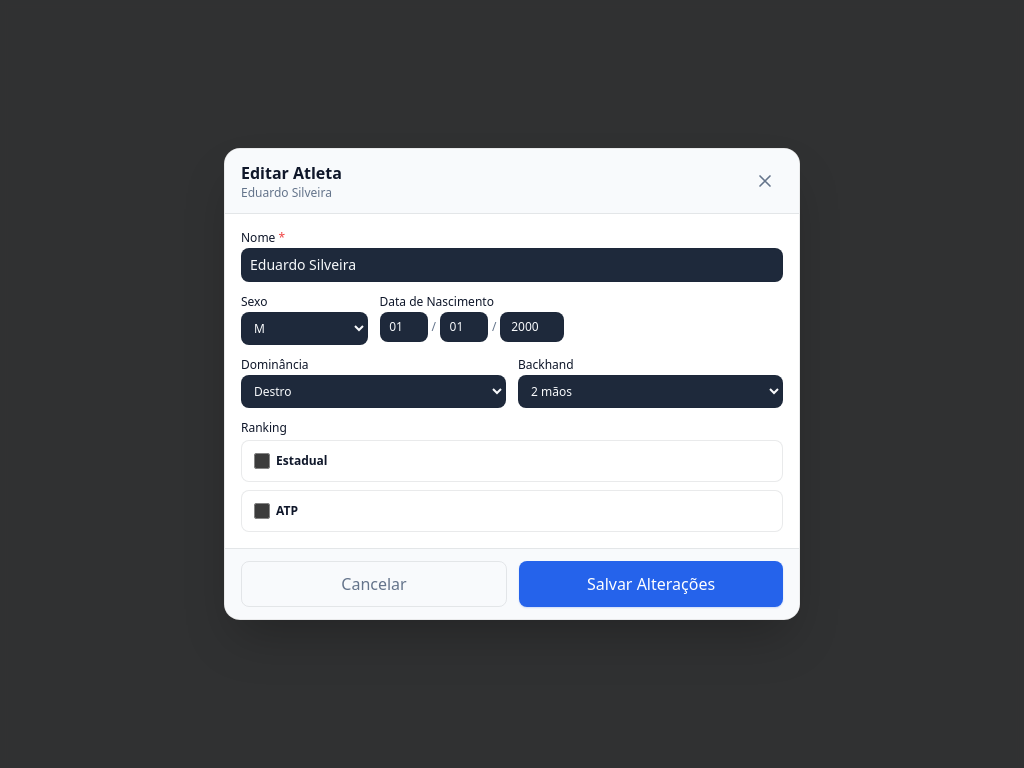
Test: EditAthleteModal Real Tests › possui container de modal configurado com max-w-xl e permite interagir com ranking
Expected: the dialog with class "max-w-xl" is shown, [224,148,800,620]
Ativa Estadual no modal de edição
Step 1. Click the checkbox labelled "Estadual" → click(262, 461), box [254,453,270,469]
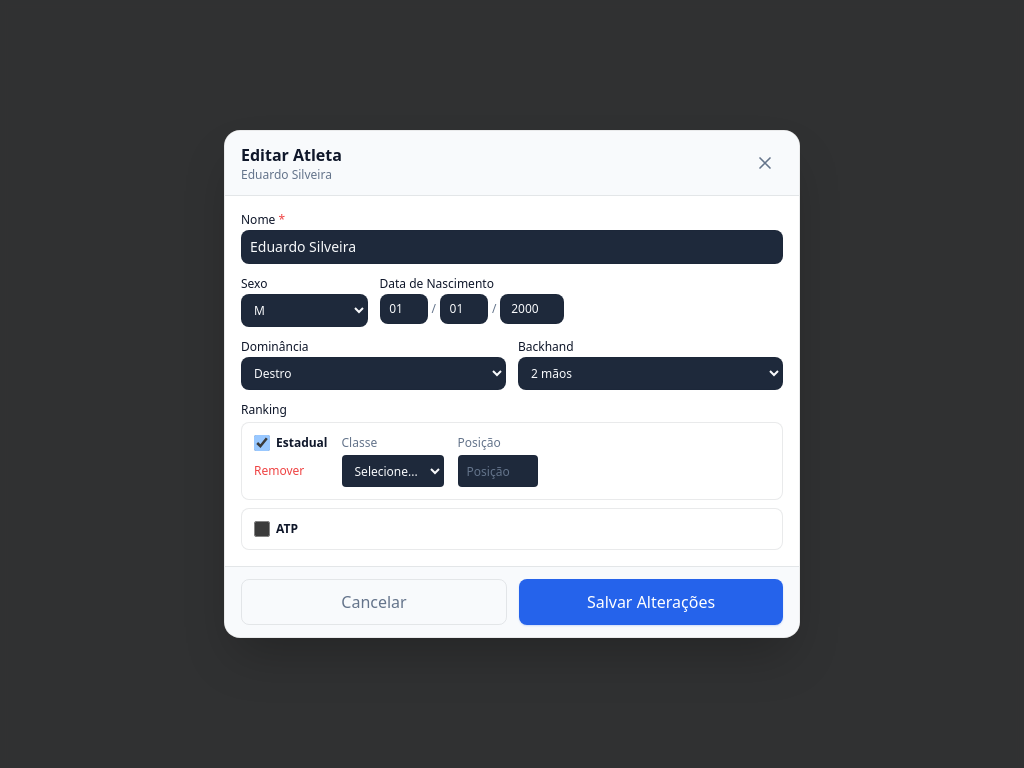
Now the dropdown labelled "Classe" is shown, box [342,455,444,487]
Now the number field labelled "Posição" is shown, box [458,455,538,487]
Now the button "Remover" is shown, box [254,463,304,479]
